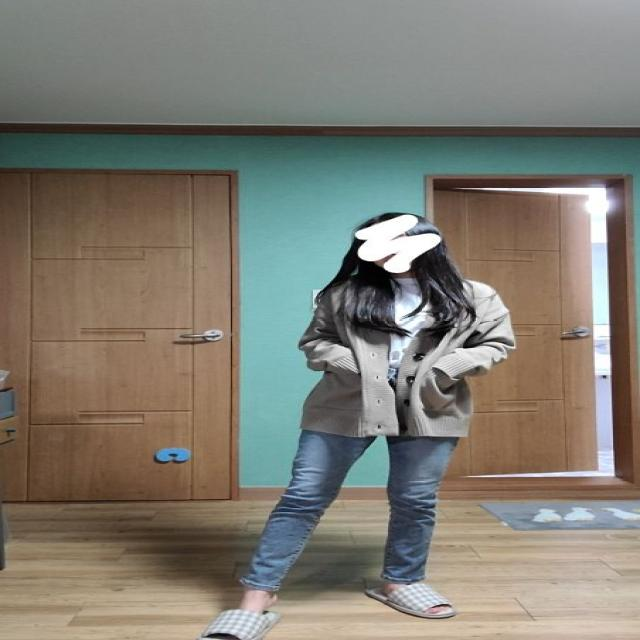cardigan: (294, 270, 518, 441)
denimpants: (241, 415, 458, 588)
